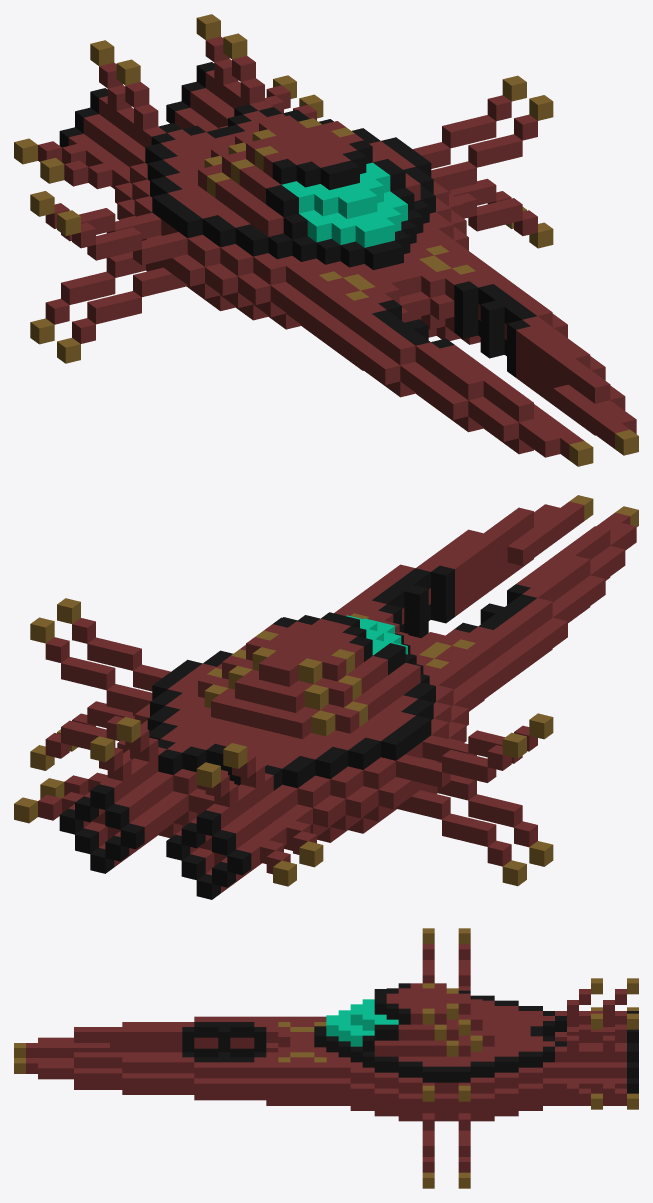
File: Ship_4-0.obj
3 renders of one model, top to bottom at view 1: azimuth 30°, elevation 25°; view 2: azimuth 150°, elevation 25°; view 3: azimuth 270°, elevation 25°, orthographic. The views are drawn at different scales.
Visible parts, largest first — view 1: Ship_4-0; view 2: Ship_4-0; view 3: Ship_4-0.
Part boxes in pixels (x1,y1,x2,y2): Ship_4-0: [14, 14, 638, 466]; Ship_4-0: [14, 495, 638, 899]; Ship_4-0: [14, 928, 638, 1188].
Size of the model in its own units: 32 by 10 by 52.
1 material, 1 textured.
